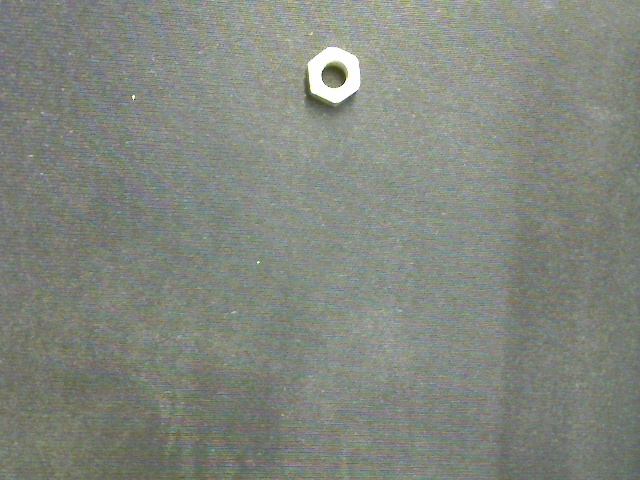Nut: (307, 46, 361, 106)
